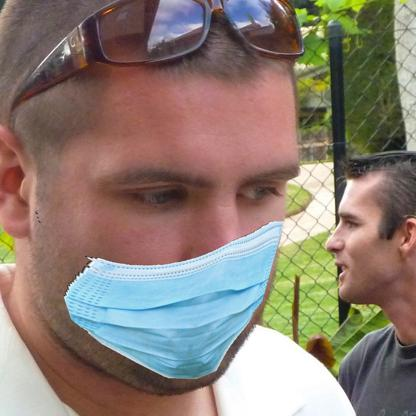mask: (65, 221, 281, 382)
